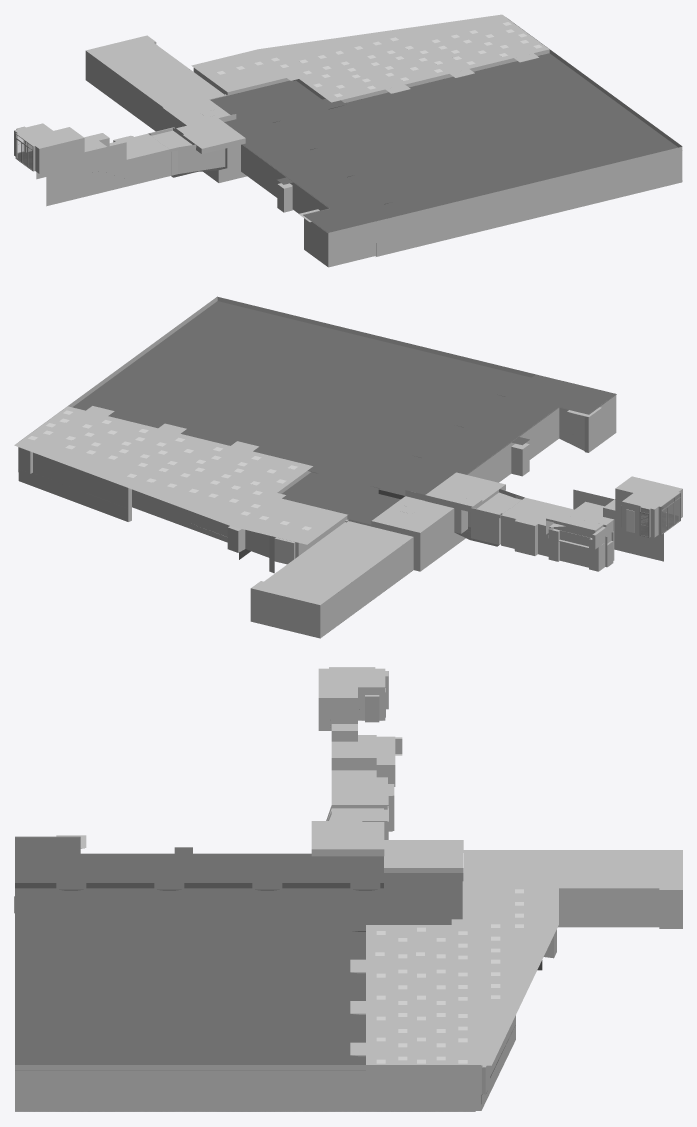
The model's file is makslas_telpa_prieks_aframe_05.glb.
3 views of the same model, one above another, from view 1: azimuth 30°, elevation 25°; view 2: azimuth 150°, elevation 25°; view 3: azimuth 270°, elevation 25° (orthographic). The views are drawn at different scales.
Parts seen in each view (by area): view 1: griesti_zemie, PLATF_SIENA, griesti_augstie, griesti_augstie.MELNIE, garderobe, GRIESTI_MAZA_ZALE, IEEJA.GRIESTI, DEZURANRES_GRIDA, DEZURANTE?, IEEJA.003, LAMPA.001, augša vienai melnai kolonnai (+1 smaller); view 2: griesti_zemie, PLATF_SIENA, griesti_augstie, griesti_augstie.MELNIE, IEEJA.GRIESTI, garderobe, GRIESTI_MAZA_ZALE, DEZURANRES_GRIDA, LAMPA.001, IEEJA.003, augša vienai melnai kolonnai, STABI BALTI.004; view 3: griesti_zemie, PLATF_SIENA, griesti_augstie, griesti_augstie.MELNIE, IEEJA.GRIESTI, GRIESTI_MAZA_ZALE, DEZURANRES_GRIDA, LAMPA.001, IEEJA.003, augša vienai melnai kolonnai, STABI BALTI.004.
Part boxes in pixels (left/top/right/bottom): griesti_zemie: left=210, top=53, right=677, bottom=215; PLATF_SIENA: left=85, top=17, right=682, bottom=267; griesti_augstie: left=191, top=14, right=549, bottom=102; griesti_augstie.MELNIE: left=224, top=113, right=398, bottom=232; garderobe: left=36, top=127, right=183, bottom=206; GRIESTI_MAZA_ZALE: left=86, top=36, right=224, bottom=107; IEEJA.GRIESTI: left=14, top=118, right=245, bottom=159; DEZURANRES_GRIDA: left=162, top=97, right=246, bottom=182; DEZURANTE?: left=169, top=114, right=240, bottom=176; IEEJA.003: left=14, top=129, right=84, bottom=173; LAMPA.001: left=217, top=22, right=542, bottom=97; augša vienai melnai kolonnai: left=261, top=98, right=393, bottom=204; griesti_zemie: left=72, top=301, right=531, bottom=524; PLATF_SIENA: left=18, top=296, right=616, bottom=638; griesti_augstie: left=14, top=406, right=347, bottom=544; griesti_augstie.MELNIE: left=378, top=374, right=616, bottom=499; IEEJA.GRIESTI: left=425, top=472, right=682, bottom=550; garderobe: left=468, top=489, right=663, bottom=571; GRIESTI_MAZA_ZALE: left=254, top=521, right=412, bottom=604; DEZURANRES_GRIDA: left=371, top=496, right=465, bottom=571; LAMPA.001: left=28, top=410, right=311, bottom=530; IEEJA.003: left=615, top=488, right=682, bottom=537; augša vienai melnai kolonnai: left=303, top=384, right=517, bottom=488; STABI BALTI.004: left=42, top=438, right=285, bottom=502; griesti_zemie: left=15, top=873, right=463, bottom=1070; PLATF_SIENA: left=15, top=837, right=682, bottom=1110; griesti_augstie: left=366, top=881, right=558, bottom=1065; griesti_augstie.MELNIE: left=15, top=836, right=383, bottom=888; IEEJA.GRIESTI: left=311, top=667, right=402, bottom=856; GRIESTI_MAZA_ZALE: left=463, top=850, right=682, bottom=888; DEZURANRES_GRIDA: left=384, top=840, right=463, bottom=872; LAMPA.001: left=375, top=889, right=523, bottom=1063; IEEJA.003: left=318, top=676, right=387, bottom=730; augša vienai melnai kolonnai: left=56, top=883, right=380, bottom=931; STABI BALTI.004: left=451, top=919, right=475, bottom=1053.
Size of the model in its own units: 62.06 by 8.81 by 51.24.
24 materials, 5 textured.
